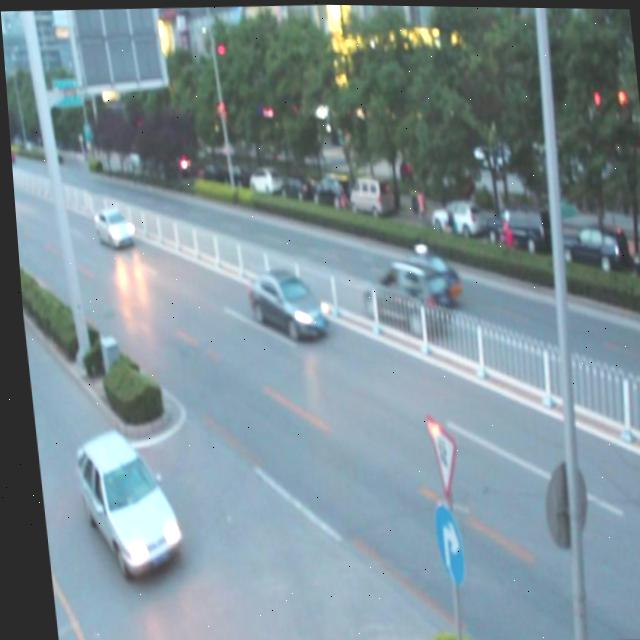car: (66, 423, 177, 572), (358, 271, 444, 342), (242, 267, 325, 339), (372, 255, 457, 305), (88, 201, 134, 247)
